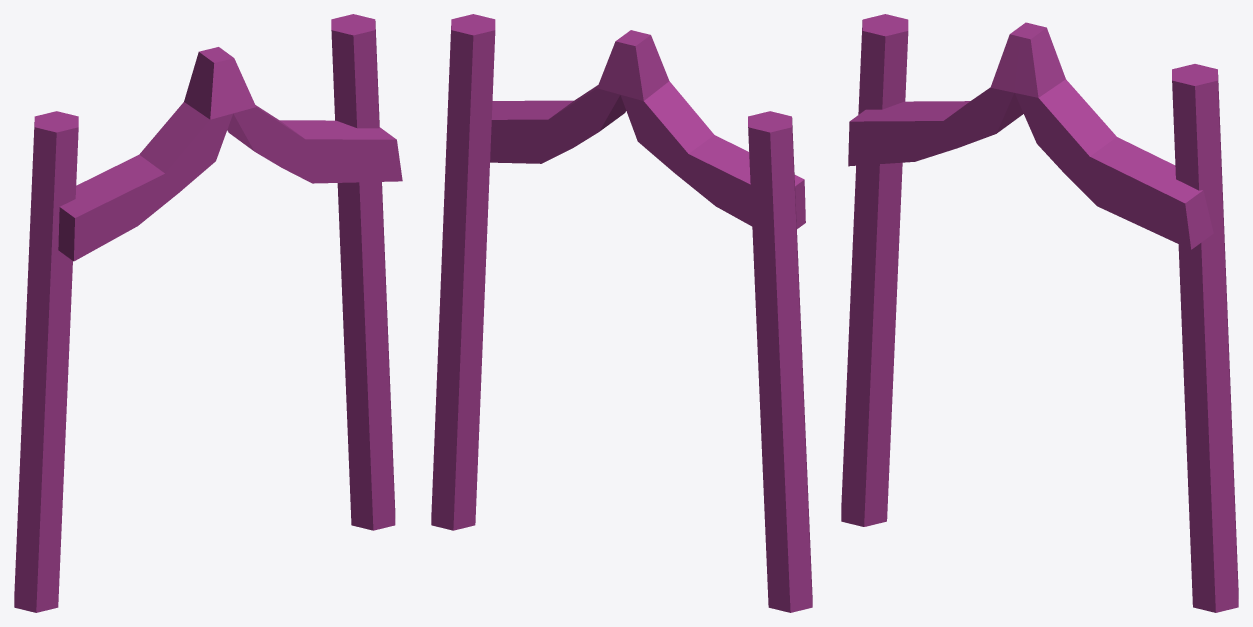
File: SM_Bld_Gate_01_Collision.fbx
3 renders of one model, left to right at view 1: azimuth 30°, elevation 25°; view 2: azimuth 150°, elevation 25°; view 3: azimuth 330°, elevation 25°, orthographic. The views are drawn at different scales.
Parts seen in each view (by area): view 1: SM_Bld_Gate_01_Collision; view 2: SM_Bld_Gate_01_Collision; view 3: SM_Bld_Gate_01_Collision.
Part boxes in pixels (x1,y1,x2,y2): SM_Bld_Gate_01_Collision: (14,14,402,612); SM_Bld_Gate_01_Collision: (431,14,812,612); SM_Bld_Gate_01_Collision: (841,14,1238,612).
Bounding box in the file's own units: 941 × 1214 × 160.
